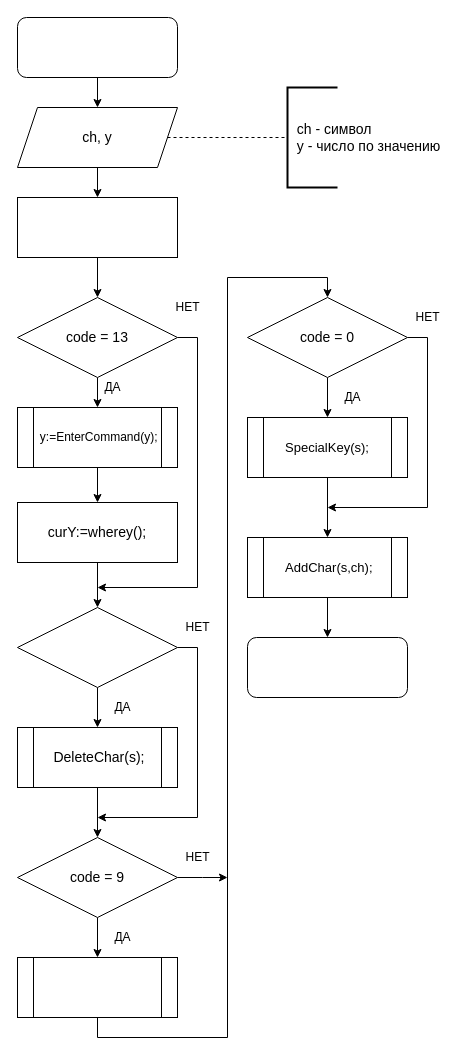
Image size: 465x1063. Some labels were removed from this diagram. Here are the shapes that lost their labels. From the top down, the centre of each, then its label:
At point (97, 47): "choiceCommand НАЧАЛО".
At point (97, 227): "code:=ord(ch);".
At point (97, 647): "code = 8".
At point (327, 667): "КОНЕЦ choiceCommand".
At point (97, 987): "AutoCompletion();".
